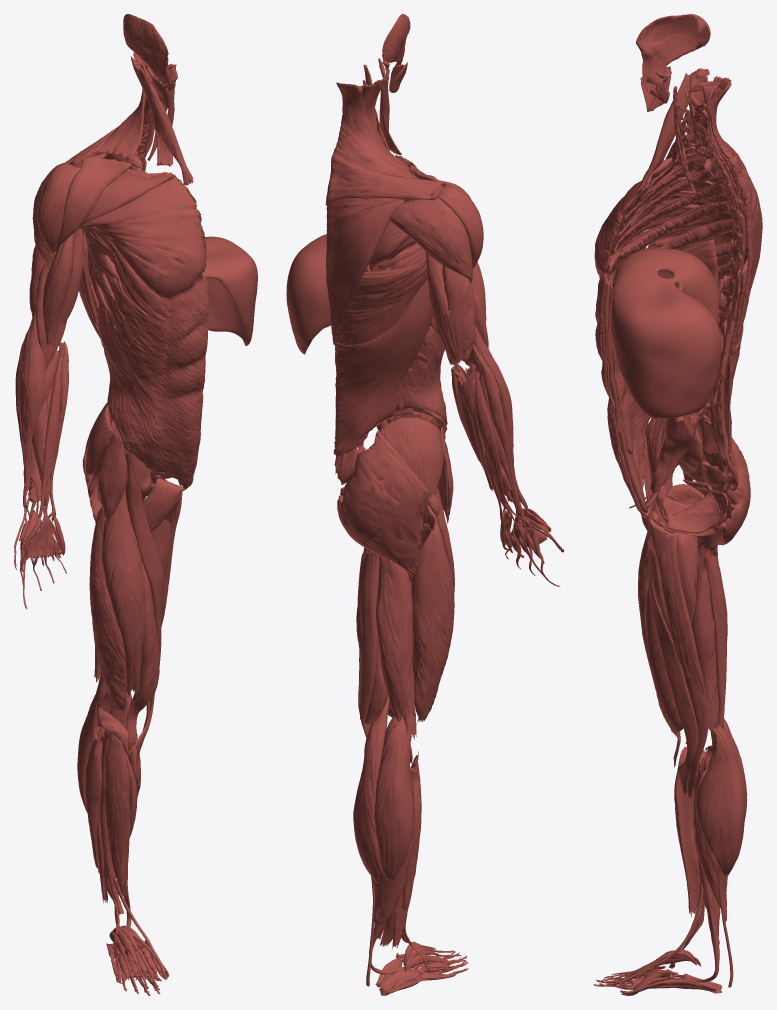
File: muscles.glb
The picture shows the model from 3 angles, left to right: view 1: azimuth 30°, elevation 25°; view 2: azimuth 150°, elevation 25°; view 3: azimuth 270°, elevation 25°; orthographic projection. The views are drawn at different scales.
Parts seen in each view (by area): view 1: muscle_external_oblique_r, muscle_pectoralis_major_r, muscle_deltoid_r, muscle_rectus_femoris_r, muscle_diaphragm, muscle_vastus_lateralis_r, muscle_sartorius_r, muscle_tibialis_anterior_r, muscle_brachioradialis_r, muscle_vastus_medialis_r, muscle_biceps_long_head_r, muscle_serratus_anterior_r (+24 smaller); view 2: muscle_latissimus_dorsi_r, muscle_gluteus_maximus_r, muscle_vastus_lateralis_r, muscle_trapezius_upper_r, muscle_deltoid_r, muscle_biceps_femoris_r, muscle_gastrocnemius_lateral_r, muscle_diaphragm, muscle_triceps_r, muscle_trapezius_lower_r, muscle_gastrocnemius_medial_r, muscle_trapezius_middle_r (+19 smaller); view 3: muscle_diaphragm, muscle_gastrocnemius_medial_r, muscle_intercostals_internal_r, muscle_gracilis_r, muscle_temporalis_r, muscle_sartorius_r, muscle_transversus_abdominis_r, muscle_semimembranosus_r, muscle_pectoralis_major_r, muscle_intercostals_external_r, muscle_serratus_anterior_r, muscle_longissimus_r (+38 smaller).
Boxes of the visible parts, x1,y1,x2,y2 form: muscle_external_oblique_r: (98, 258, 208, 478); muscle_pectoralis_major_r: (78, 168, 206, 314); muscle_deltoid_r: (32, 156, 131, 261); muscle_rectus_femoris_r: (102, 485, 145, 696); muscle_diaphragm: (201, 236, 257, 345); muscle_vastus_lateralis_r: (89, 506, 127, 712); muscle_sartorius_r: (123, 448, 163, 764); muscle_tibialis_anterior_r: (105, 735, 130, 887); muscle_brachioradialis_r: (19, 305, 46, 509); muscle_vastus_medialis_r: (127, 561, 159, 750); muscle_biceps_long_head_r: (43, 233, 74, 347); muscle_serratus_anterior_r: (85, 153, 143, 315); muscle_latissimus_dorsi_r: (333, 256, 433, 456); muscle_gluteus_maximus_r: (337, 431, 430, 575); muscle_vastus_lateralis_r: (411, 505, 454, 724); muscle_trapezius_upper_r: (326, 198, 414, 344); muscle_deltoid_r: (390, 165, 483, 282); muscle_biceps_femoris_r: (376, 555, 416, 740); muscle_gastrocnemius_lateral_r: (374, 717, 413, 880); muscle_diaphragm: (286, 234, 330, 354); muscle_triceps_r: (425, 252, 475, 365); muscle_trapezius_lower_r: (333, 82, 419, 178); muscle_gastrocnemius_medial_r: (353, 695, 389, 883); muscle_trapezius_middle_r: (325, 153, 442, 205); muscle_diaphragm: (611, 248, 721, 418); muscle_gastrocnemius_medial_r: (696, 726, 745, 877); muscle_intercostals_internal_r: (605, 161, 733, 311); muscle_gracilis_r: (649, 518, 708, 798); muscle_temporalis_r: (636, 14, 710, 90); muscle_sartorius_r: (643, 435, 698, 794); muscle_transversus_abdominis_r: (609, 239, 718, 516); muscle_semimembranosus_r: (691, 555, 721, 731); muscle_pectoralis_major_r: (594, 158, 671, 280); muscle_intercostals_external_r: (619, 153, 736, 330); muscle_serratus_anterior_r: (640, 153, 745, 281); muscle_longissimus_r: (685, 74, 743, 481).
Bounding box in the file's own units: 0.455 × 1.65 × 0.2584.
